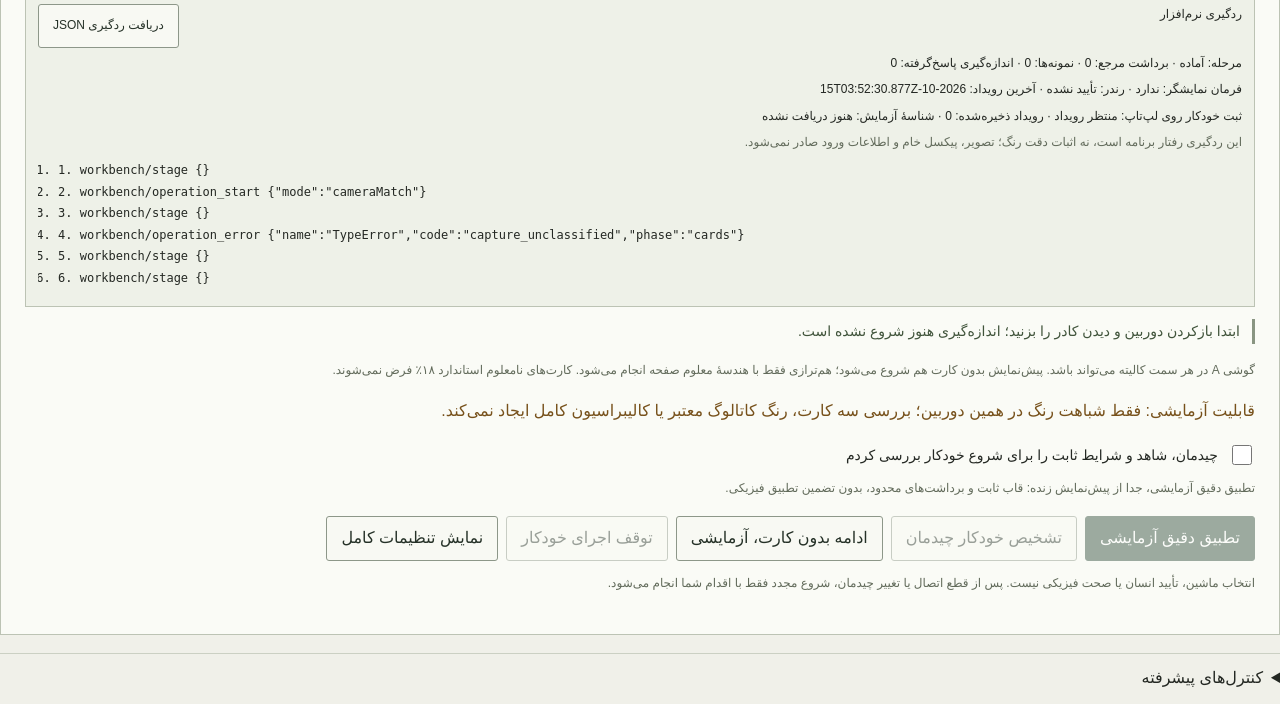
Test: visible camera preview before measurement › does not secretly open a camera when measurement is requested first
The width and height of the screenshot is (1280, 704).
(page scrolled)
Click the checkbox labelled "چیدمان، شاهد و شرایط ثابت را برای شروع خودکار بررسی کردم".
click(1242, 455)  # box x1=1232 y1=445 x2=1252 y2=465
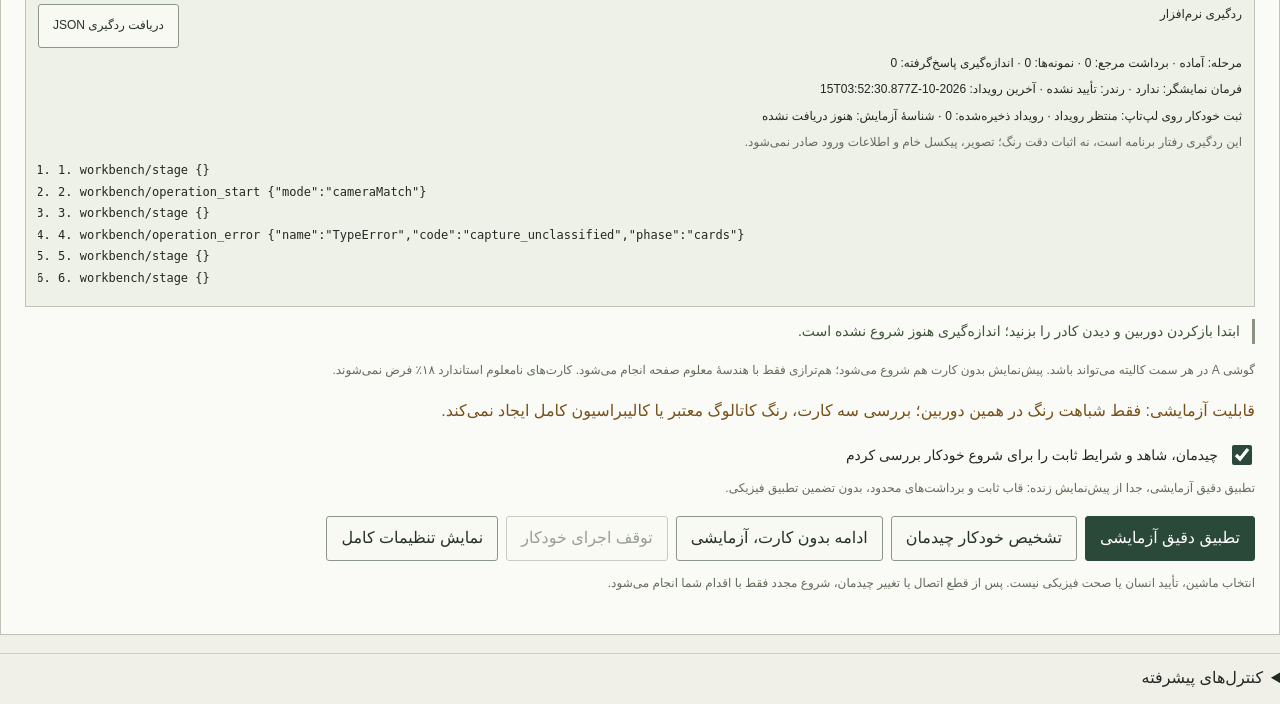
Click the button "تطبیق دقیق آزمایشی".
click(1170, 538)  # box x1=1085 y1=516 x2=1255 y2=560
(page scrolled)
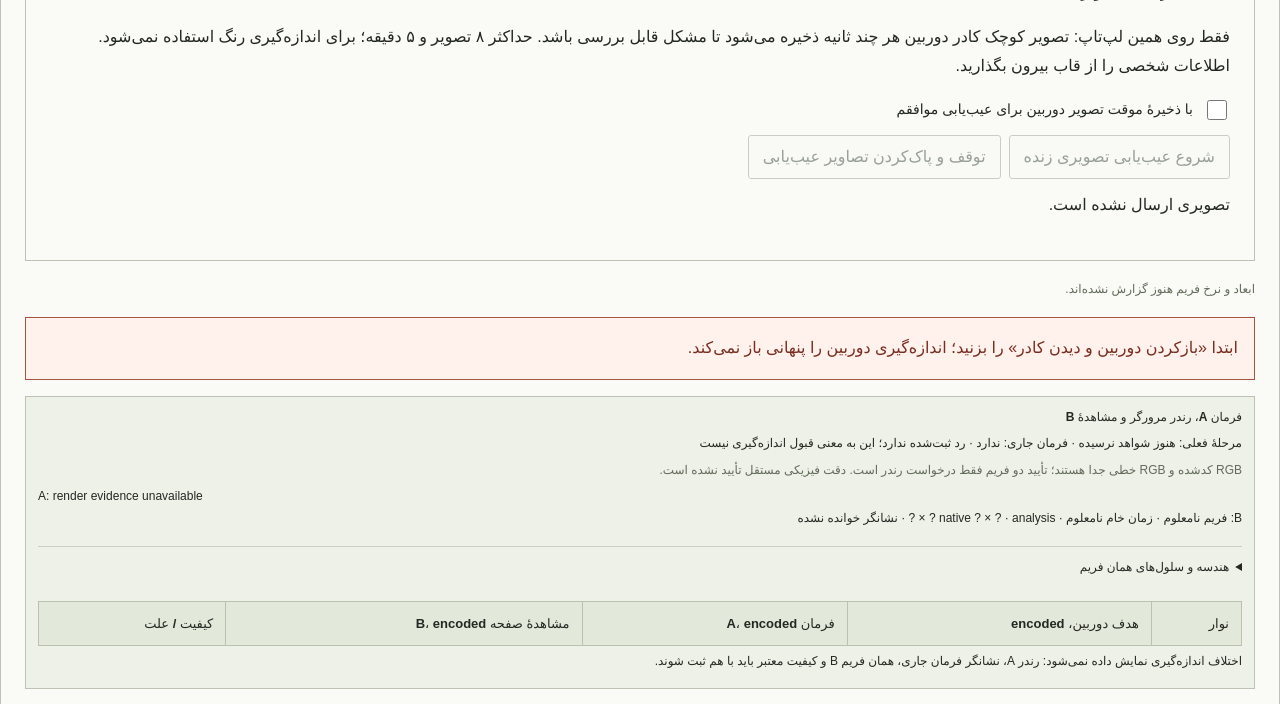
Now the 2nd message shows "بازکردن دوربین و دیدن کادر", box x1=688 y1=339 x2=1238 y2=356
